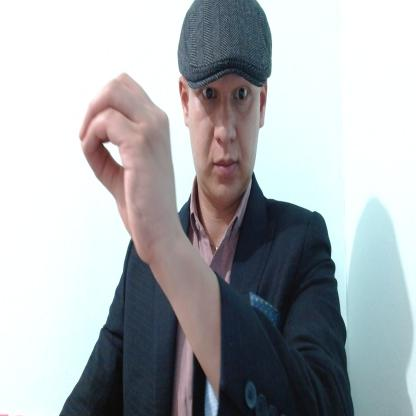O: (75, 69, 178, 266)
